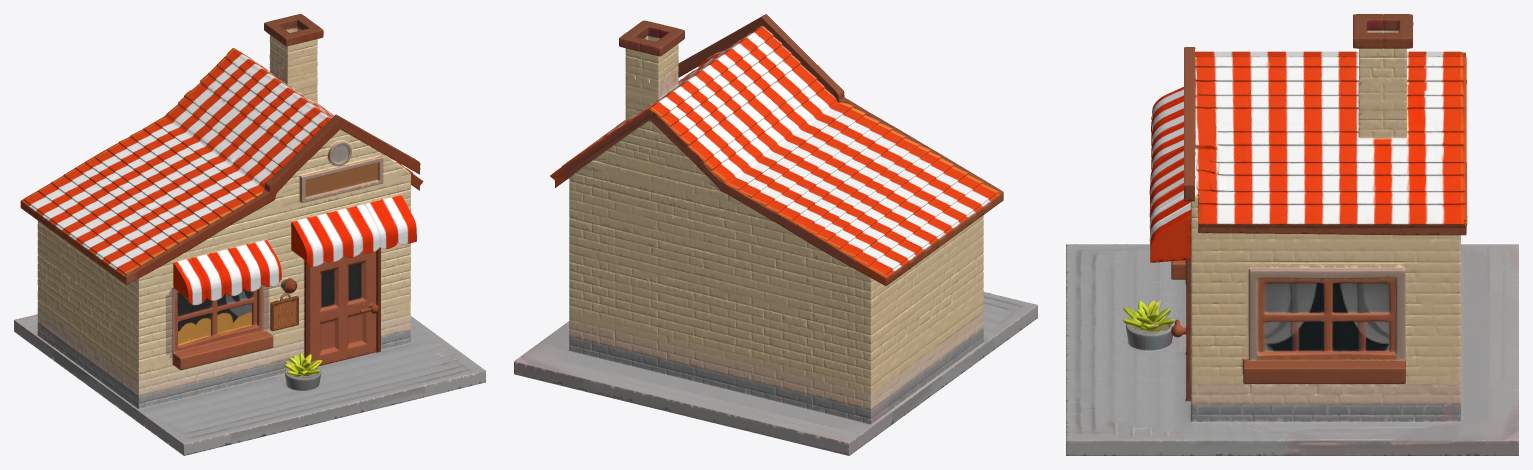
Rendered from Model_Bakery.fbx.
3 renders of one model, left to right at view 1: azimuth 30°, elevation 25°; view 2: azimuth 150°, elevation 25°; view 3: azimuth 270°, elevation 25°, orthographic. The views are drawn at different scales.
Visible parts, largest first — view 1: Mesh_0; view 2: Mesh_0; view 3: Mesh_0.
Part boxes in pixels (<box>): Mesh_0: <box>14,14,485,455</box>; Mesh_0: <box>514,14,1037,455</box>; Mesh_0: <box>1066,14,1518,455</box>.
Size of the model in its own units: 1.9 by 1.65 by 1.77.
1 material, 1 textured.
